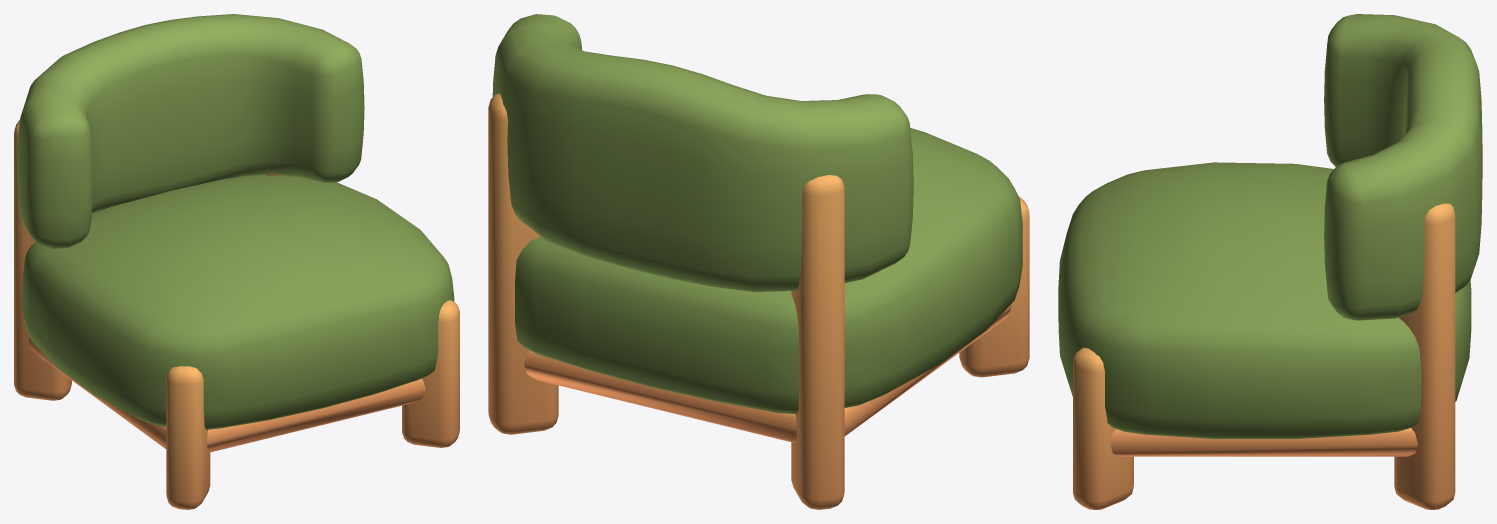
Rendered from Armchair_13.glb.
3 views of the same model, side by side, from view 1: azimuth 30°, elevation 25°; view 2: azimuth 150°, elevation 25°; view 3: azimuth 270°, elevation 25° (orthographic). The views are drawn at different scales.
Visible parts, largest first — view 1: Armchair_13; view 2: Armchair_13; view 3: Armchair_13.
Part boxes in pixels (x1,y1,x2,y2): Armchair_13: (14, 14, 459, 509); Armchair_13: (488, 14, 1029, 509); Armchair_13: (1058, 14, 1482, 509).
Bounding box in the file's own units: 0.9833 × 0.9089 × 0.9511.
1 material, 1 textured.
